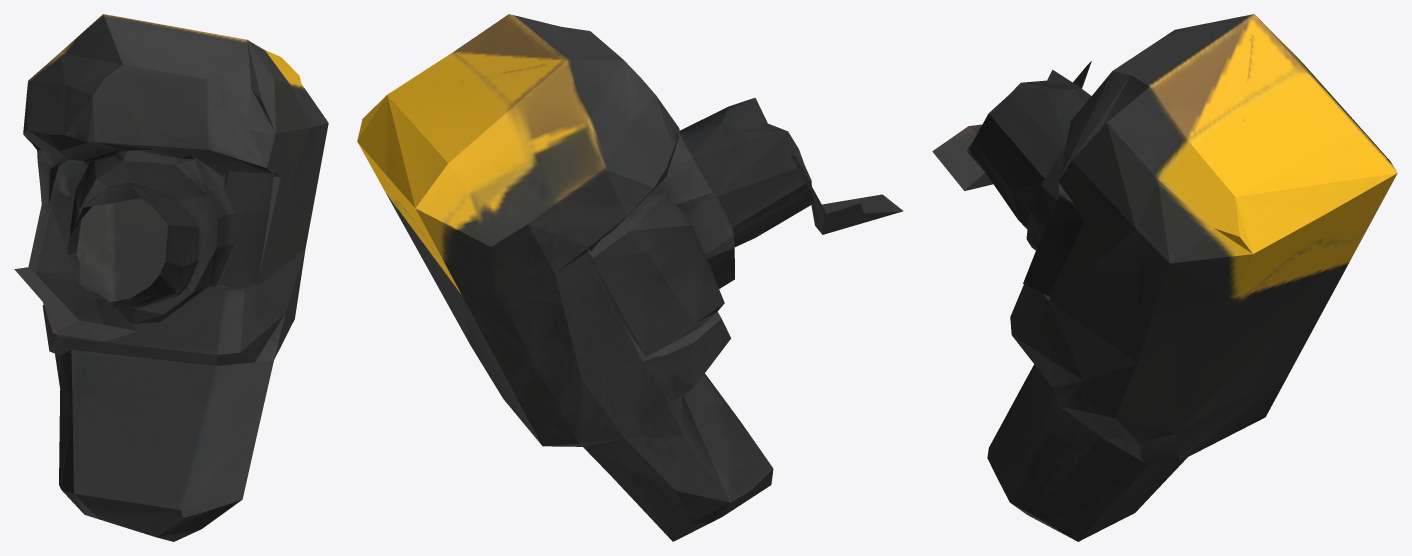
The model's file is SM_KamikazeDebris_Leg_L.fbx.
3 renders of one model, left to right at view 1: azimuth 30°, elevation 25°; view 2: azimuth 150°, elevation 25°; view 3: azimuth 270°, elevation 25°, orthographic. The views are drawn at different scales.
Visible parts, largest first — view 1: SM_KamikazeDebris_Leg_L; view 2: SM_KamikazeDebris_Leg_L; view 3: SM_KamikazeDebris_Leg_L.
Boxes of the visible parts, x1,y1,x2,y2 form: SM_KamikazeDebris_Leg_L: [14, 14, 328, 541]; SM_KamikazeDebris_Leg_L: [357, 14, 903, 541]; SM_KamikazeDebris_Leg_L: [932, 14, 1397, 541].
Bounding box in the file's own units: 50.82 × 61.1 × 49.3.
1 material, 1 textured.
